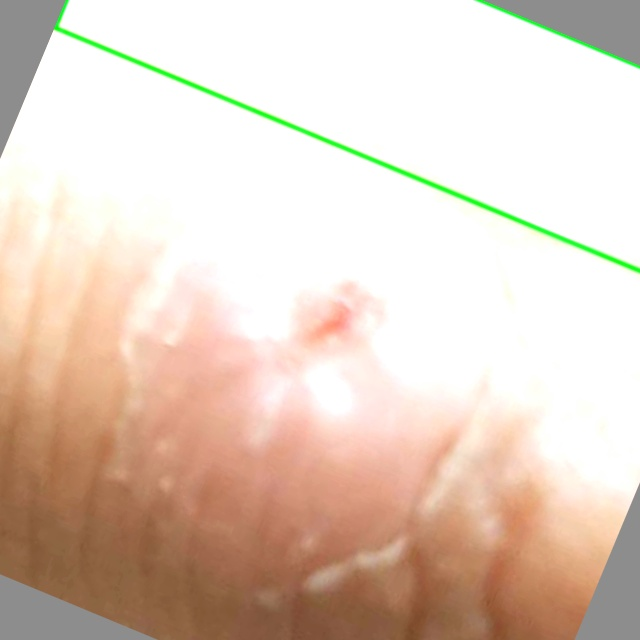Eczema: (55, 0, 639, 270)
